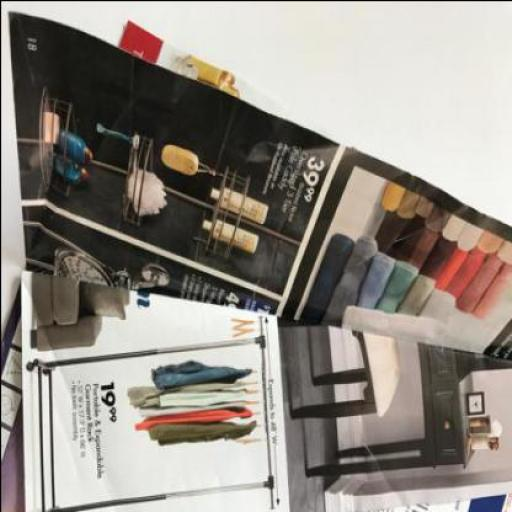paper: (7, 10, 511, 363), (20, 266, 510, 511), (115, 19, 326, 166), (0, 276, 31, 510)
